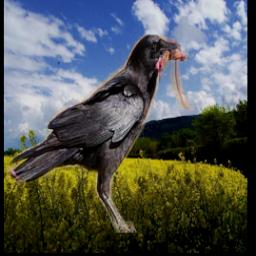Crow: (8, 27, 199, 234)
